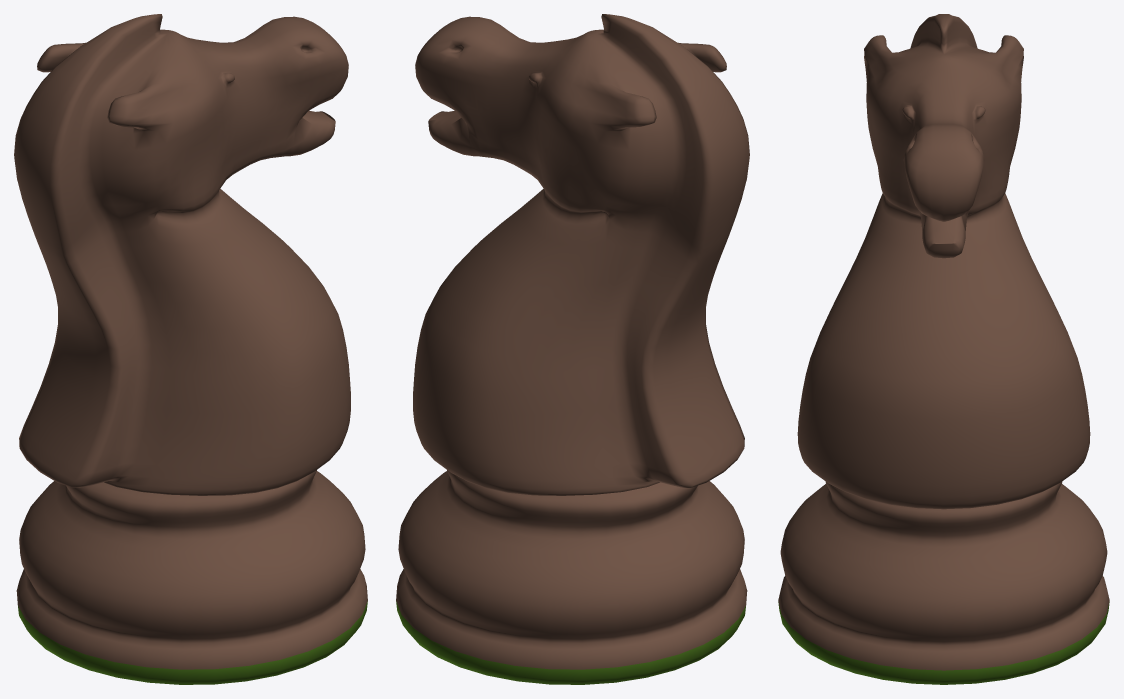
Rendered from blackhorse.glb.
The picture shows the model from 3 angles, left to right: view 1: azimuth 30°, elevation 25°; view 2: azimuth 150°, elevation 25°; view 3: azimuth 270°, elevation 25°; orthographic projection. The views are drawn at different scales.
Parts seen in each view (by area): view 1: blackhorse; view 2: blackhorse; view 3: blackhorse.
Part boxes in pixels (x1=…): blackhorse: x1=14, y1=14, x2=367, y2=684; blackhorse: x1=396, y1=14, x2=749, y2=684; blackhorse: x1=778, y1=14, x2=1109, y2=684.
Bounding box in the file's own units: 0.6381 × 1.21 × 0.6148.
